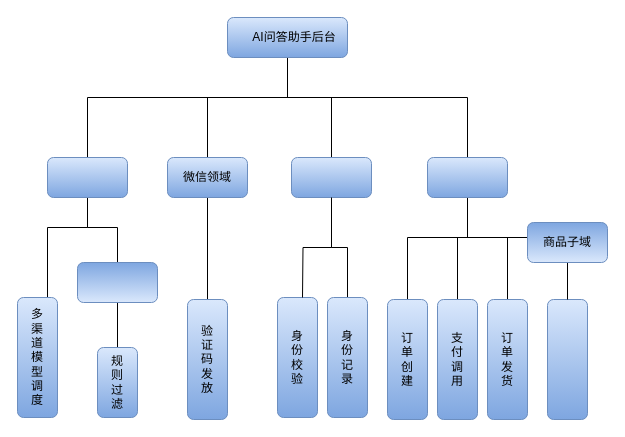
Image size: 625x437. Some labels were removed from this diagram. Here are the shapes that lost their labels. From the top down, the box of each, then its label:
(46, 156, 128, 198): AI领域
(290, 156, 372, 198): 授权领域
(426, 156, 508, 198): 订单领域
(76, 262, 158, 302): 规则子域
(546, 298, 588, 420): 商 品 列 表
